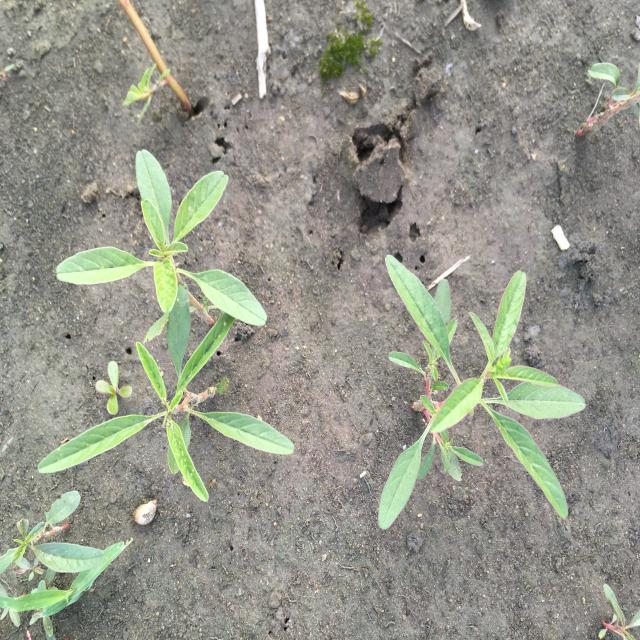Waterhemp: (376, 252, 586, 531), (36, 307, 297, 504), (55, 148, 269, 345)
